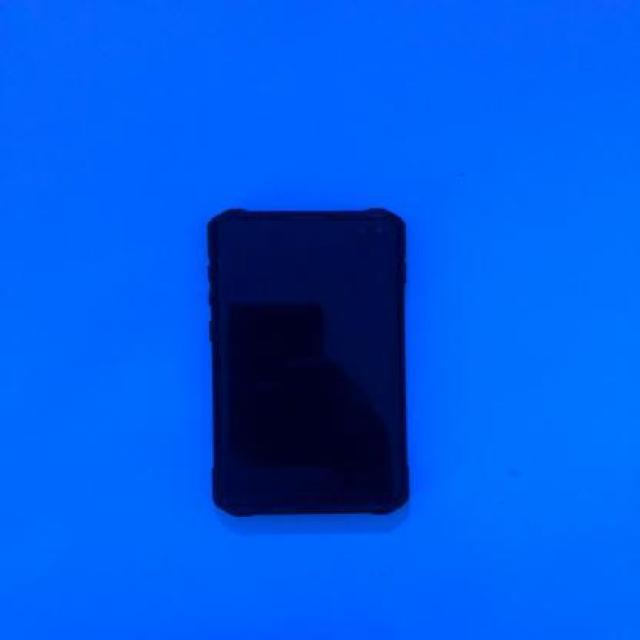phone: (212, 204, 414, 516)
